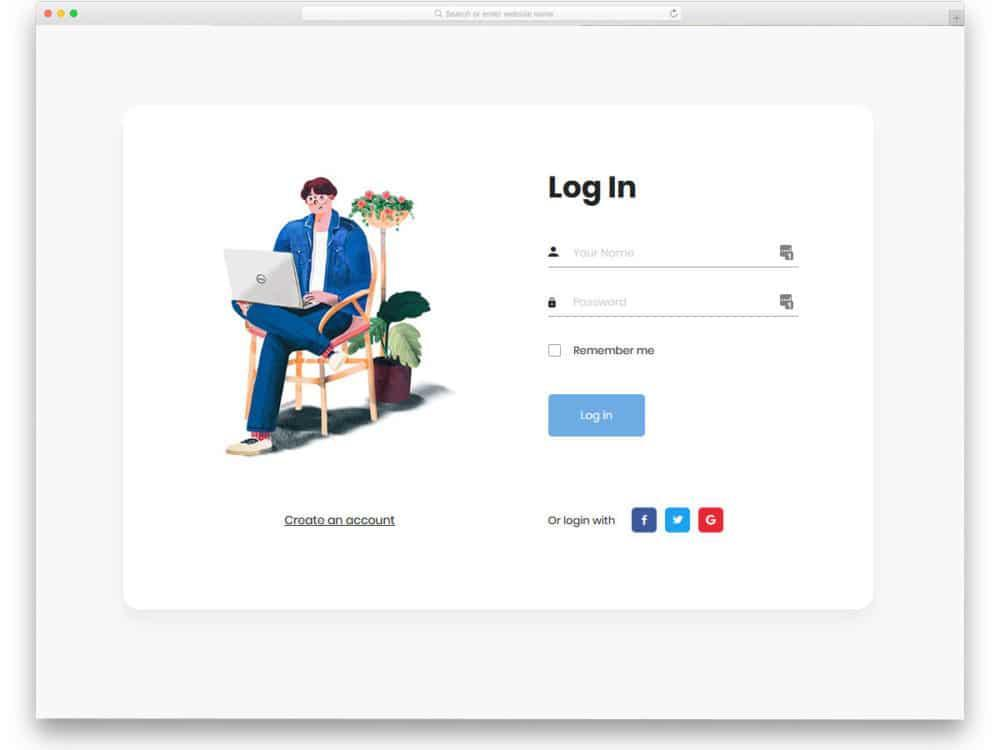button: (551, 394, 647, 439)
checkbox: (548, 344, 563, 358)
icon: (698, 506, 726, 534), (632, 507, 658, 536), (665, 508, 692, 535), (776, 290, 798, 317), (781, 240, 800, 265), (544, 244, 566, 264), (542, 293, 563, 313)
label: (542, 167, 643, 211), (571, 345, 657, 358)
